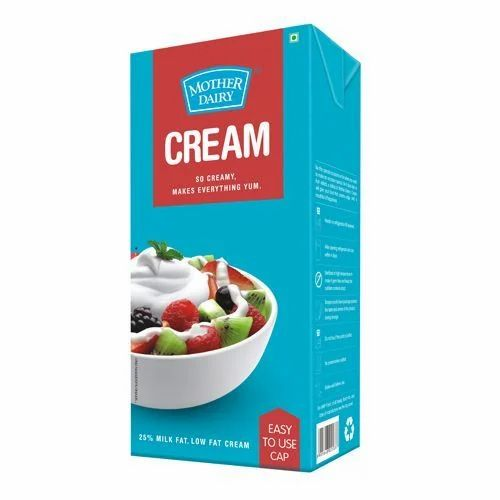Mother_Dairy: (175, 68, 262, 119)
